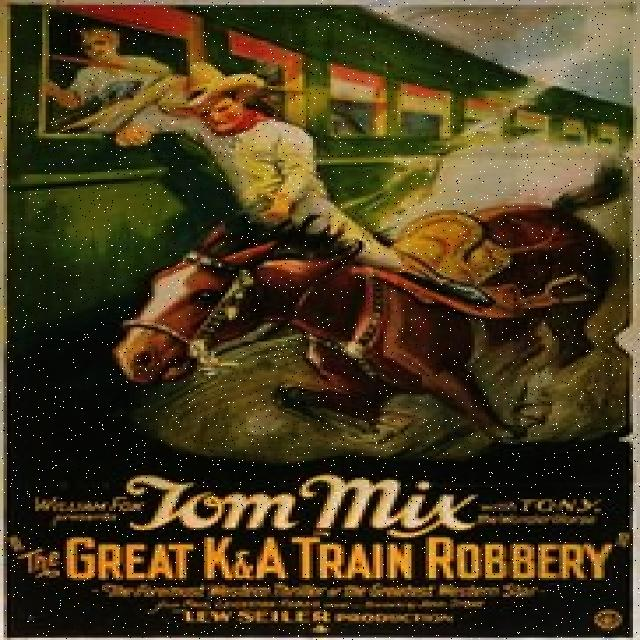movie-judul: (8, 467, 634, 636)
picture: (11, 6, 628, 467)
